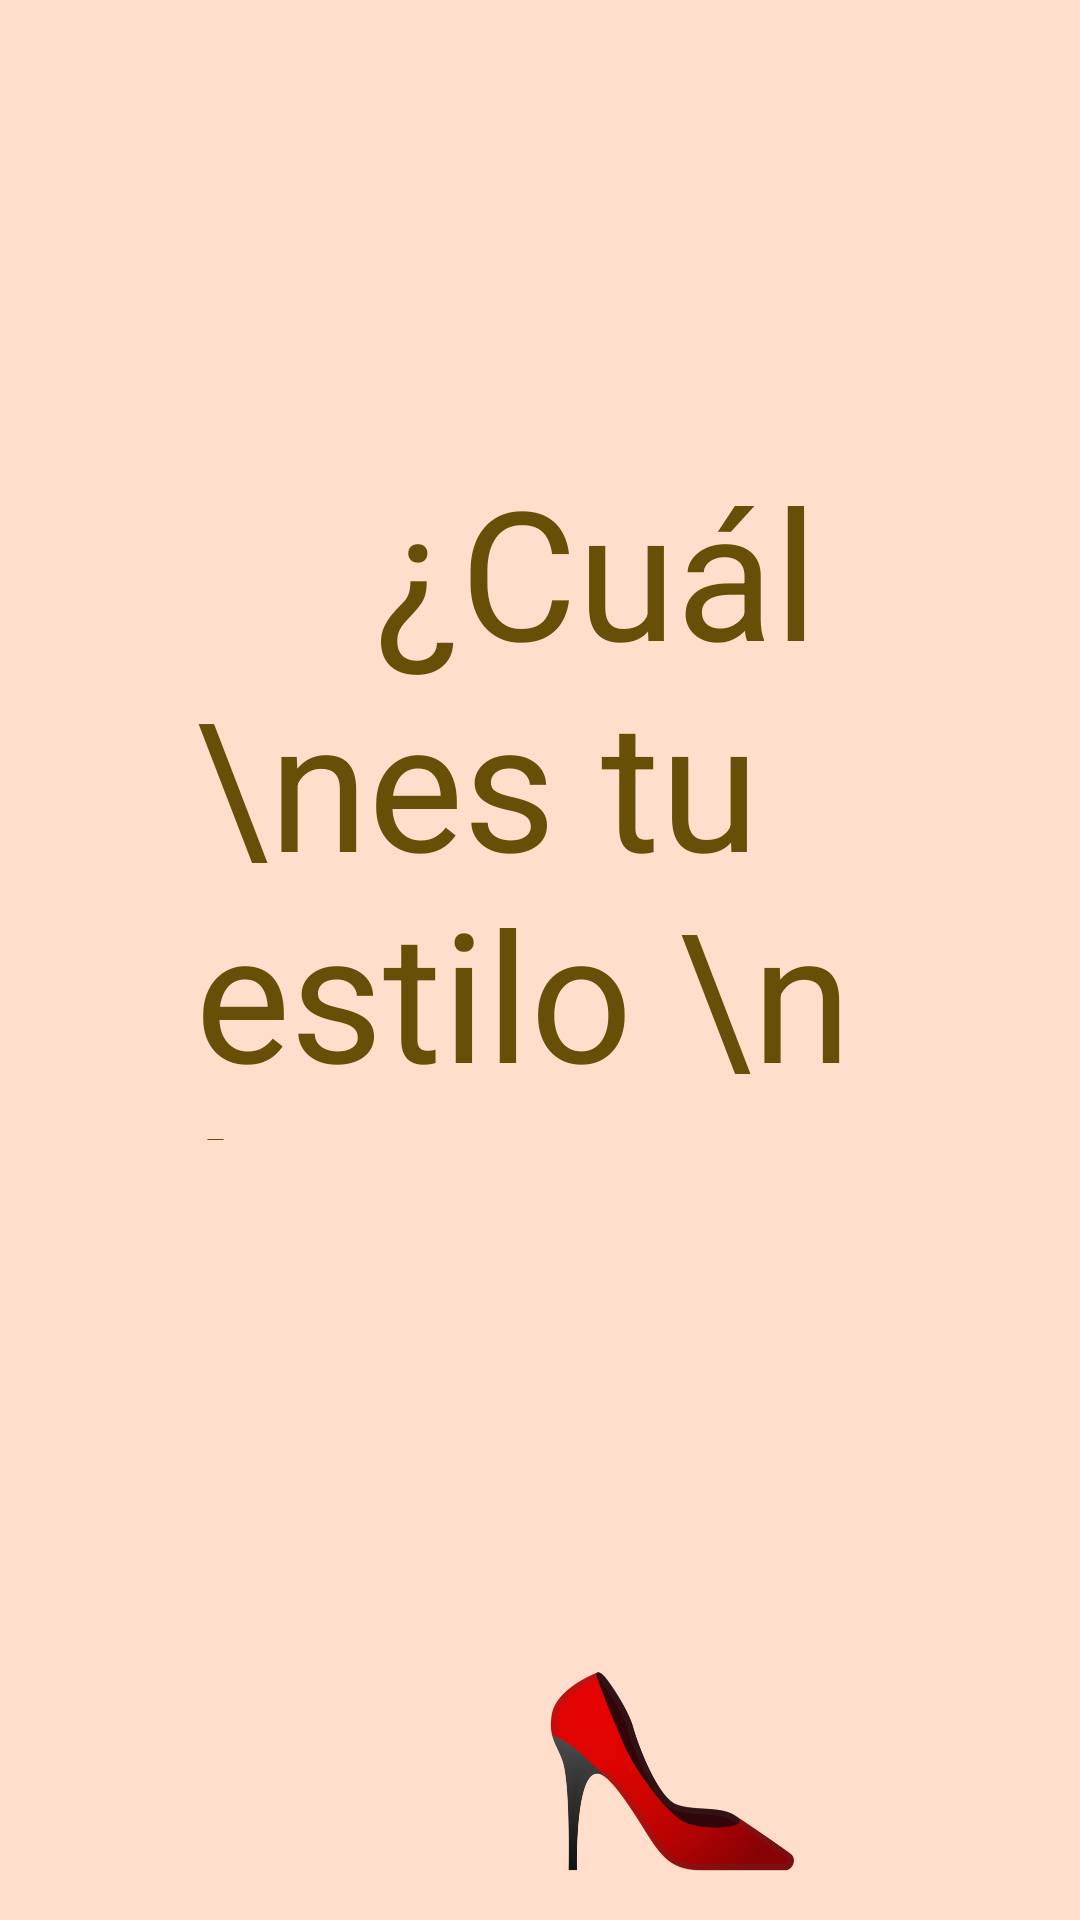

Icons on this 1080*1920 Android screen, each with its box as (x1, y1, x2, y2):
formal: (550, 1672, 794, 1871)
